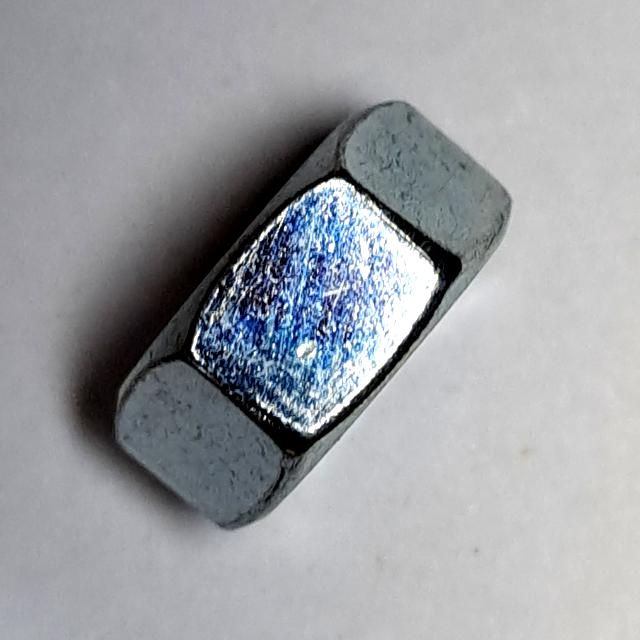Side_Excellent: (96, 89, 522, 545)
